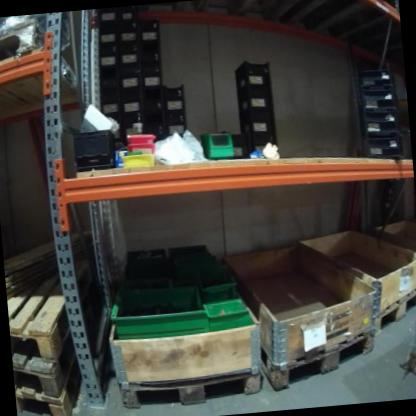pallet: (260, 314, 381, 390), (0, 13, 85, 115), (120, 359, 267, 412), (7, 276, 75, 362), (313, 0, 402, 51), (367, 282, 416, 337), (15, 358, 79, 398), (19, 386, 89, 416), (404, 344, 416, 389)
